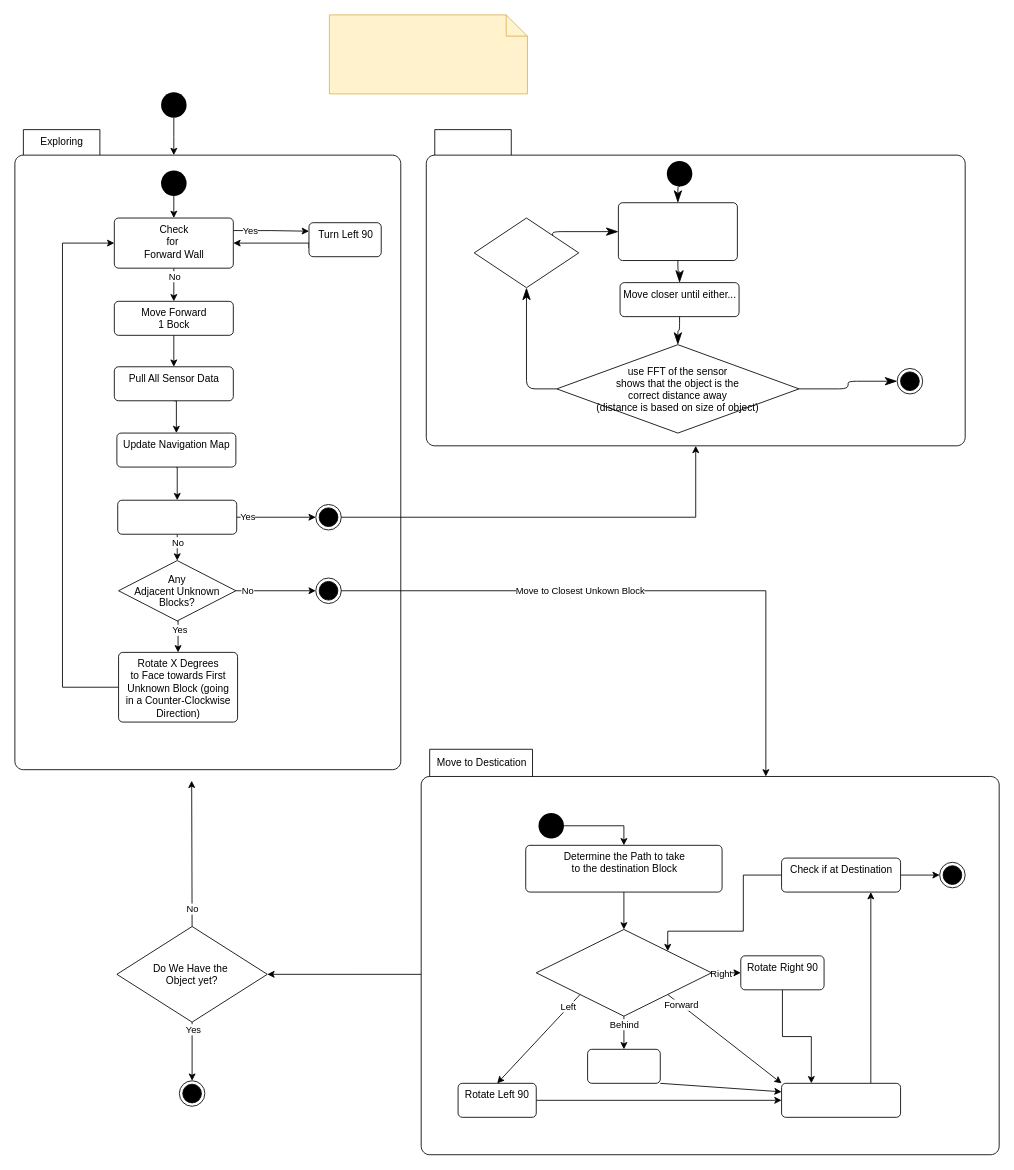
The diagram is 1014 pixels wide and 1170 high, and some of its shapes have lost their labels. The box of each missing label's shape, as (x1, y1, x2, y2) in pixels:
Check for next Block to move to: (535, 929, 712, 1016)
Check for Object: (117, 499, 237, 534)
Move Forward 1 Block: (781, 1082, 901, 1117)
Note: the term Block here is equivalent to Tile (they mean a square in the maze): (329, 14, 527, 94)
Object is not in center of image: (473, 217, 579, 288)
Pick Up Object: (425, 129, 965, 446)
Rotate 180: (587, 1048, 660, 1083)
Rotate until object is in center of optical sensor: (618, 202, 737, 261)
